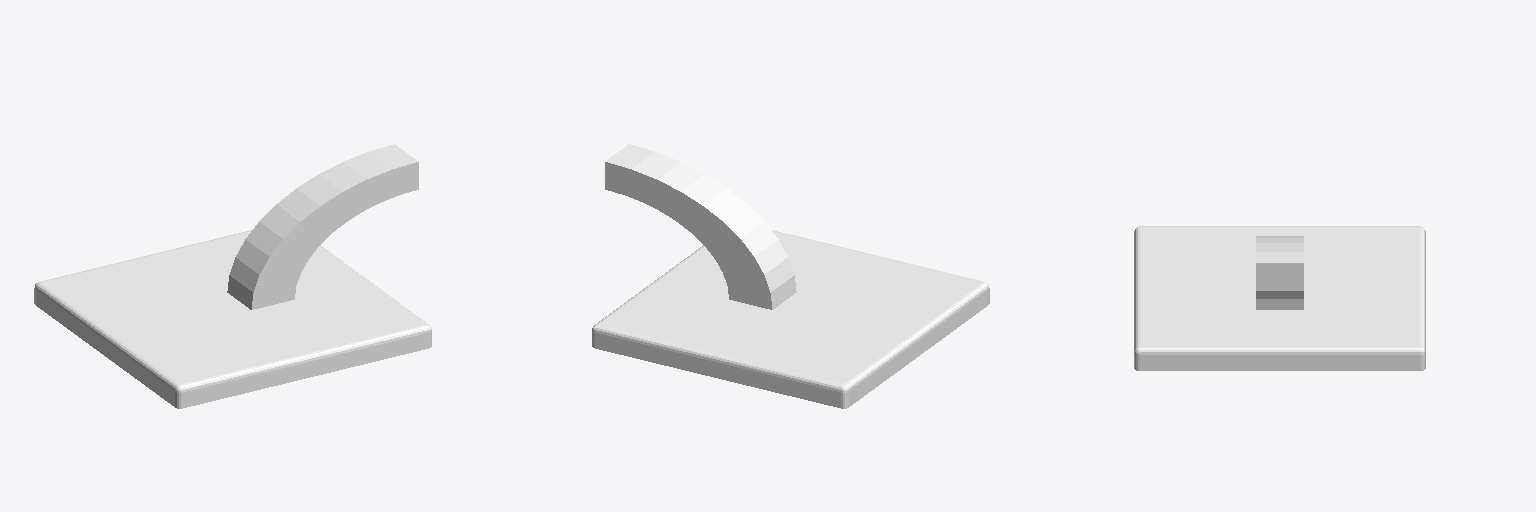
File: showerHead.obj
The picture shows the model from 3 angles: view 1: azimuth 30°, elevation 25°; view 2: azimuth 150°, elevation 25°; view 3: azimuth 270°, elevation 25°; orthographic projection.
Visible parts, largest first — view 1: Box001, Box002; view 2: Box001, Box002; view 3: Box001, Box002.
Boxes of the visible parts, x1=… form: Box001: x1=34, y1=230, x2=431, y2=408; Box002: x1=227, y1=144, x2=418, y2=309; Box001: x1=592, y1=230, x2=989, y2=408; Box002: x1=605, y1=144, x2=796, y2=309; Box001: x1=1134, y1=226, x2=1425, y2=370; Box002: x1=1256, y1=236, x2=1303, y2=309.
Bounding box in the file's own units: 23.55 × 9.92 × 19.72.